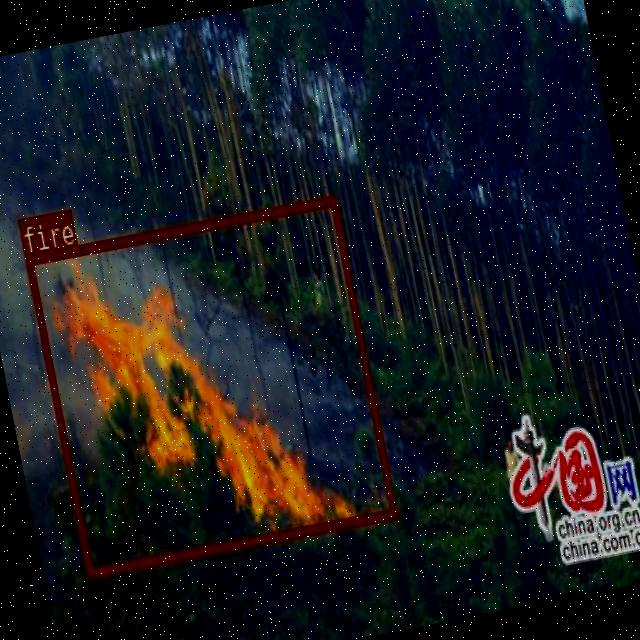fire: (24, 193, 397, 576)
